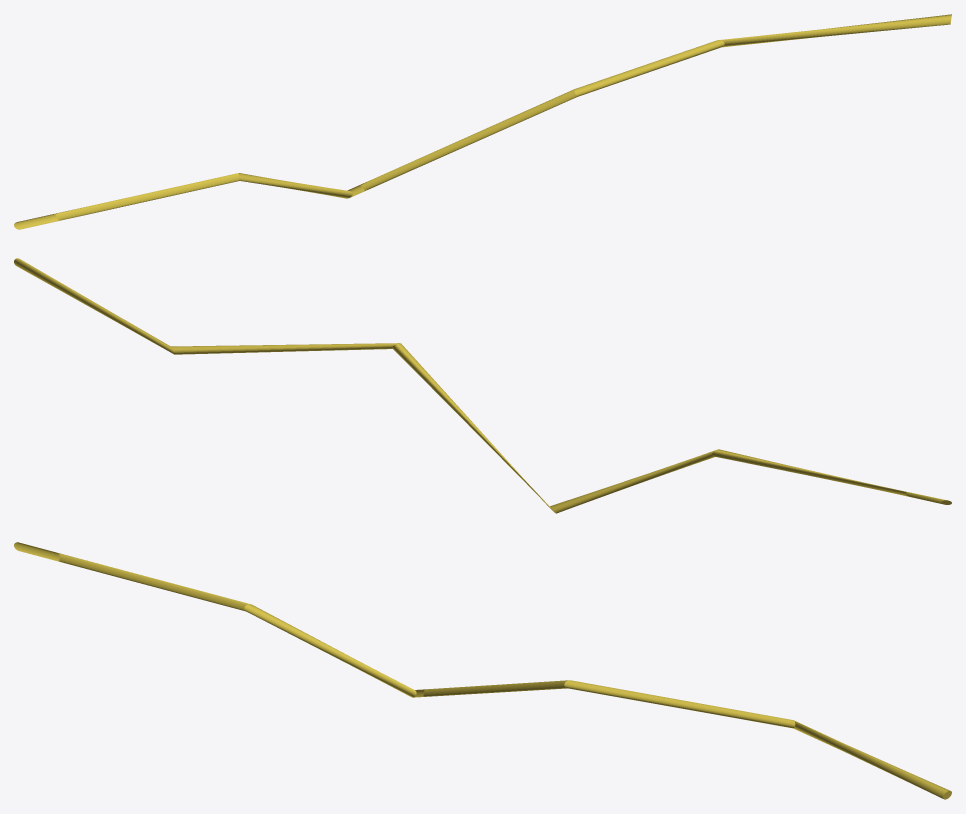
Rendered from lightningBolt.fbx.
3 views of the same model, one above another, from view 1: azimuth 30°, elevation 25°; view 2: azimuth 150°, elevation 25°; view 3: azimuth 330°, elevation 25° (orthographic). The views are drawn at different scales.
Visible parts, largest first — view 1: Cylinder; view 2: Cylinder; view 3: Cylinder.
Boxes of the visible parts, box(x1,y1,x2,y2) form: Cylinder: box(14, 14, 951, 229); Cylinder: box(14, 258, 951, 513); Cylinder: box(14, 542, 951, 799).
Size of the model in its own units: 739 by 68.88 by 65.48.
